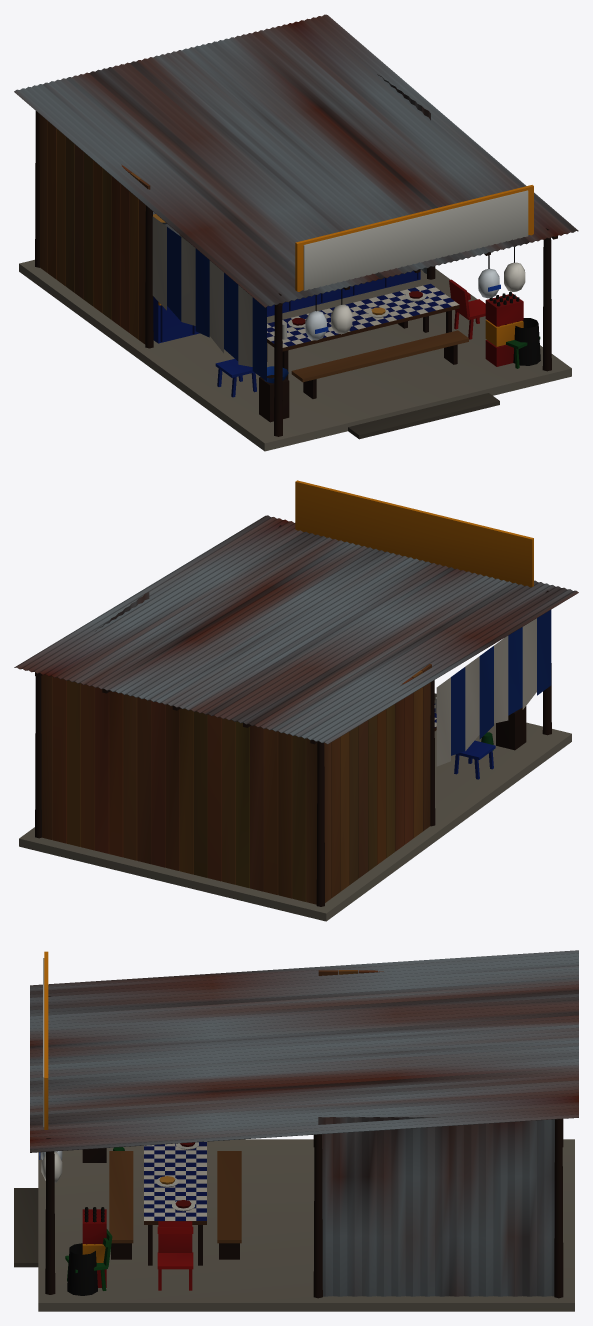
Rendered from bk_buka.glb.
3 views of the same model, one above another, from view 1: azimuth 30°, elevation 25°; view 2: azimuth 150°, elevation 25°; view 3: azimuth 270°, elevation 25° (orthographic). The views are drawn at different scales.
Visible parts, largest first — view 1: bk_buka; view 2: bk_buka; view 3: bk_buka.
Boxes of the visible parts, <box> form: bk_buka: <box>14,14,578,451</box>; bk_buka: <box>14,480,578,921</box>; bk_buka: <box>14,950,578,1311</box>.
Bounding box in the file's own units: 4.9 × 2.94 × 7.
